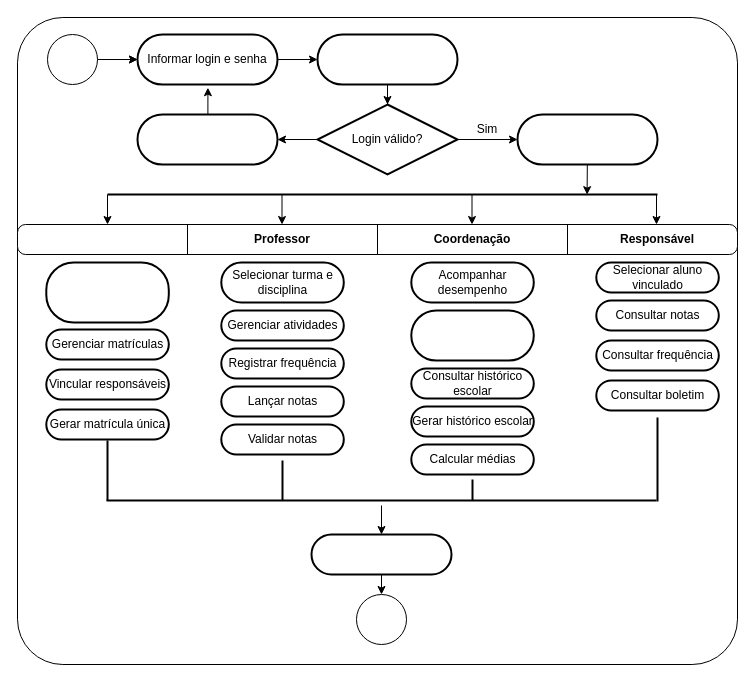
The diagram is 755 pixels wide and 682 high, and some of its shapes have lost their labels. The centre of each missing label's shape, as x and y in pixels:
"Cadastrar e atualizar alunos, professores e disciplinas" goes at pixel 107 292.
"Consultar notas, frequência e histórico escolar" goes at pixel 472 335.
"Encerrar sessão" goes at pixel 381 554.
"Identificar perfil do usuário" goes at pixel 587 139.
"Informar mensagem de erro" goes at pixel 207 139.
"Secretaria" goes at pixel 112 239.
"Validar credenciais" goes at pixel 387 59.
